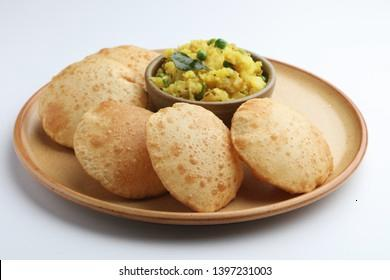puri: (70, 106, 347, 213)
